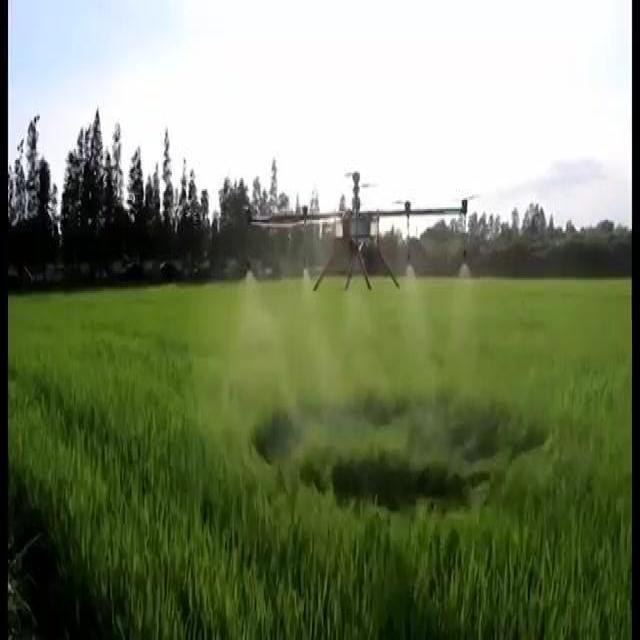drone: (247, 166, 477, 299)
